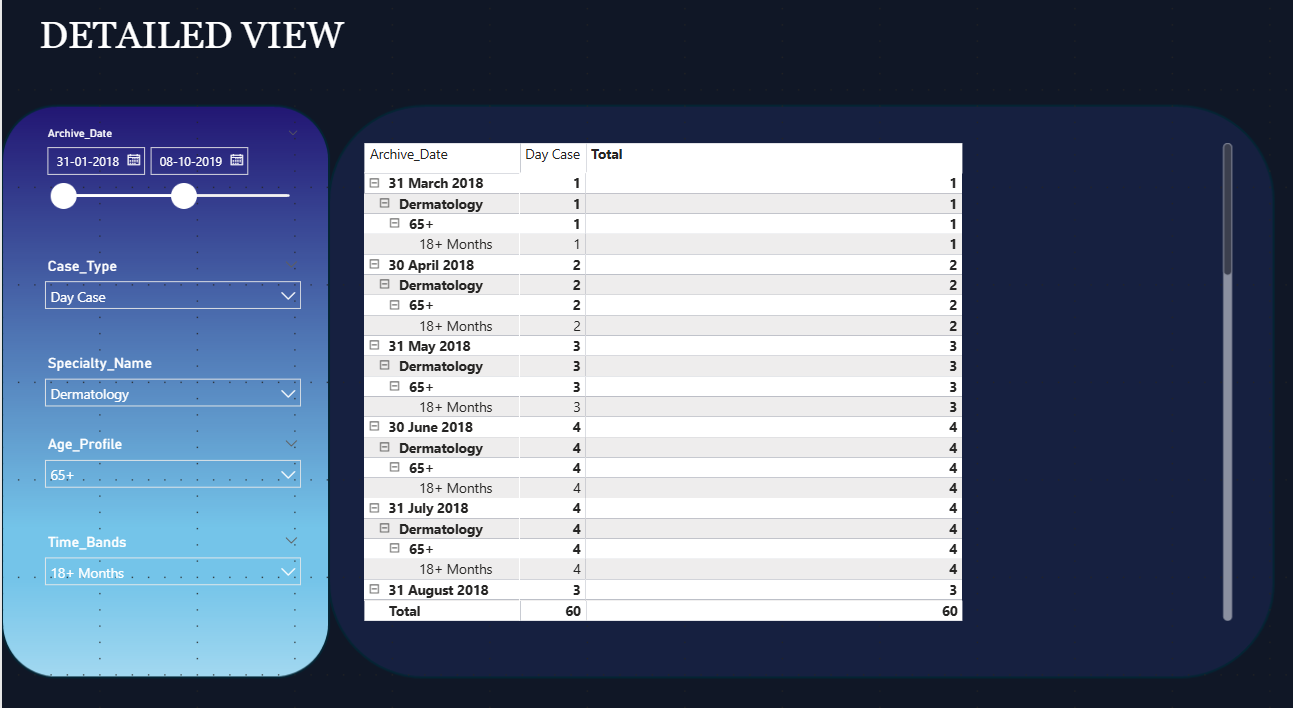

The page's visual inventory and layout, read from the dashboard file:
{"tool":"powerbi","page":{"name":"detailed view","canvas":[1280,720],"ordinal":1},"visuals":[{"type":"slicer","fields":{"Values":["All_data.Archive_Date"]},"box":[32,128,272,112],"z":0},{"type":"slicer","fields":{"Values":["All_data.Case_Type"]},"box":[32,256,272,80],"z":1000},{"type":"slicer","fields":{"Values":["All_data.Specialty_Name"]},"box":[32,352,272,80],"z":2000},{"type":"textbox","box":[32,16,320,96],"z":3000},{"type":"slicer","fields":{"Values":["All_data.Age_Profile"]},"box":[32,432,272,80],"z":4000},{"type":"slicer","fields":{"Values":["All_data.Time_Bands"]},"box":[32,528,272,80],"z":5000},{"type":"pivotTable","fields":{"Rows":["All_data.Archive_Date","All_data.Specialty_Name","All_data.Age_Profile","All_data.Time_Bands"],"Columns":["All_data.Case_Type"],"Values":["Sum(All_data.Total)"]},"box":[352,144,864,480],"z":6000}]}

Visuals, with their boxes in screenshot pixels (x1, y1, x2, y2), scaled from the page's 1280x720 canvas onto the 1293x708 screenshot:
slicer - All_data.Archive_Date: [32,126,307,236]
slicer - All_data.Case_Type: [32,252,307,330]
slicer - All_data.Specialty_Name: [32,346,307,425]
textbox: [32,16,356,110]
slicer - All_data.Age_Profile: [32,425,307,503]
slicer - All_data.Time_Bands: [32,519,307,598]
pivotTable - All_data.Archive_Date x All_data.Specialty_Name: [356,142,1228,614]
